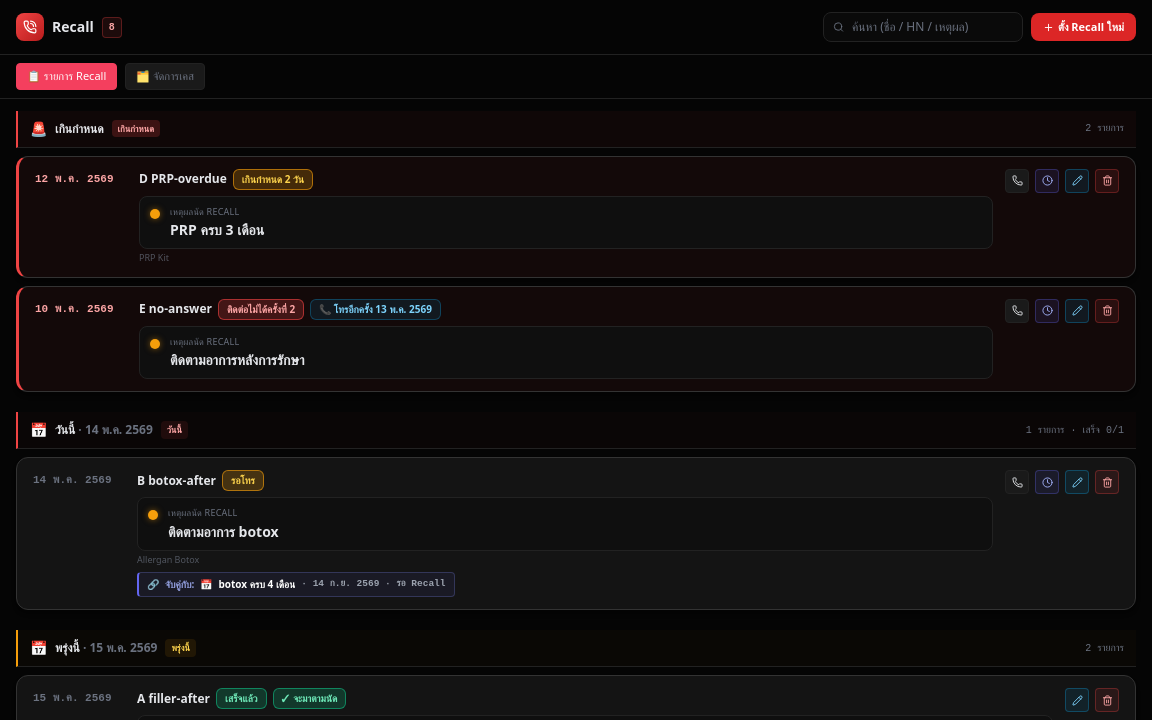
Test case: Phase 29 · F10 search "ฟิลเลอร์" reveals R1+R2 › F10.1 search "ฟิลเลอร์" matches R1 reason + R2 reason
The image size is (1152, 720).
Step 1. Type "ฟิลเลอร์" into the search field with test id "recall-header-search" → coordinates (923, 27), box 823,12 -> 1023,42
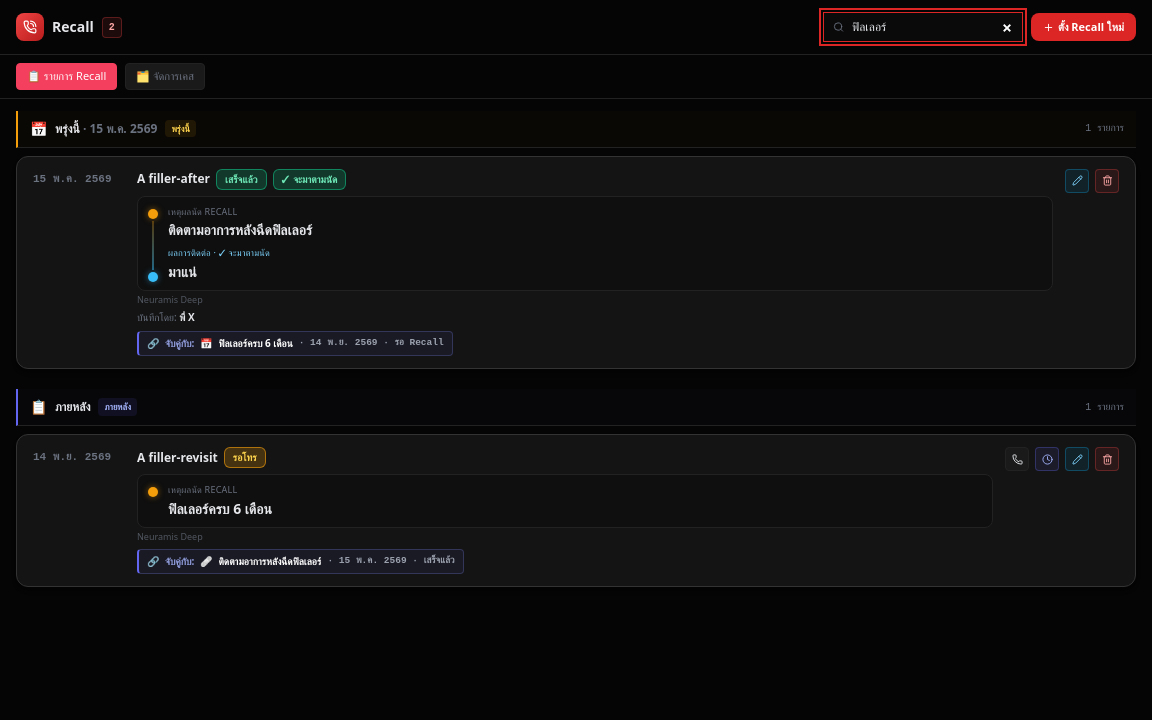
Expected: the button with test id "recall-row-R1" is shown, 16,156 -> 1136,369
Now the button with test id "recall-row-R6" is gone
